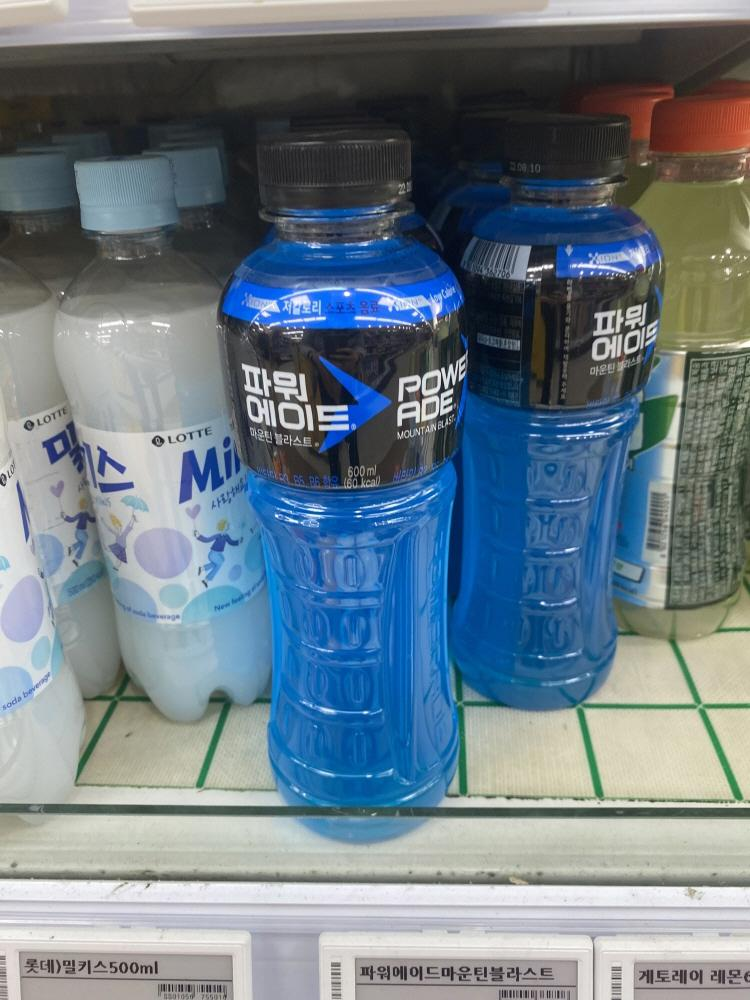powerade_mountainblast: (228, 115, 482, 857), (466, 103, 617, 734)
